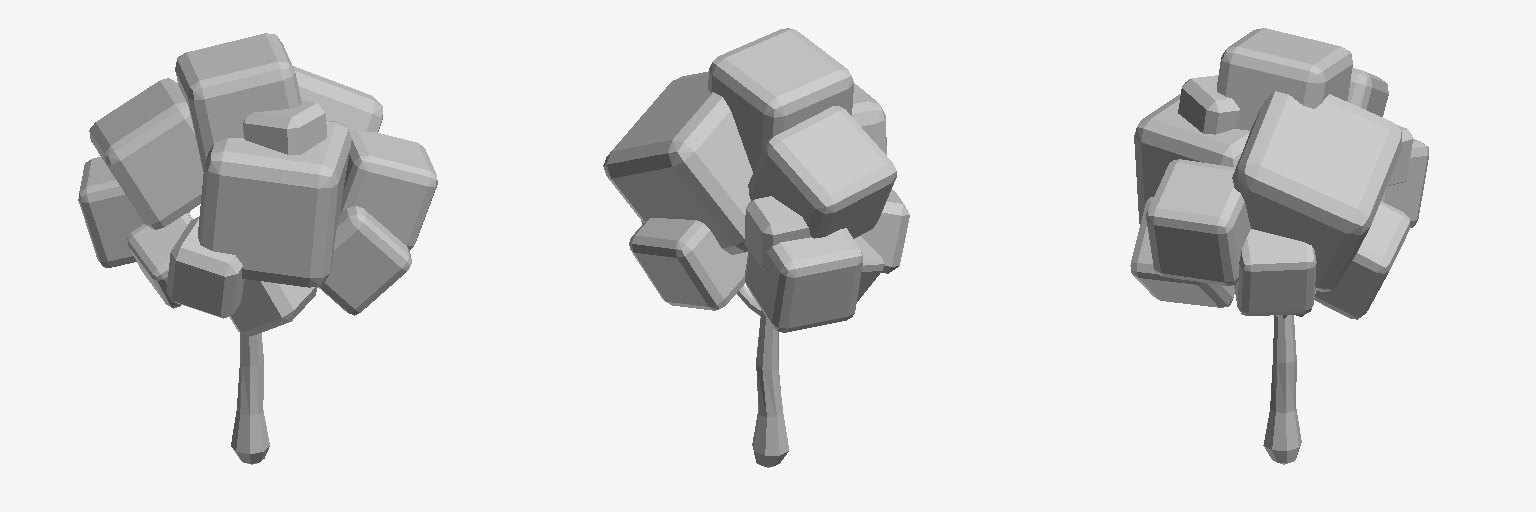
File: Tree_2_E_Color1.obj
3 renders of one model, left to right at view 1: azimuth 30°, elevation 25°; view 2: azimuth 150°, elevation 25°; view 3: azimuth 270°, elevation 25°, orthographic.
Visible parts, largest first — view 1: Tree_2_E_Color1; view 2: Tree_2_E_Color1; view 3: Tree_2_E_Color1.
Part boxes in pixels (x1,y1,x2,y2): Tree_2_E_Color1: (78, 33, 437, 464); Tree_2_E_Color1: (603, 28, 909, 467); Tree_2_E_Color1: (1130, 28, 1428, 464).
Size of the model in its own units: 6.05 by 8.79 by 5.68.